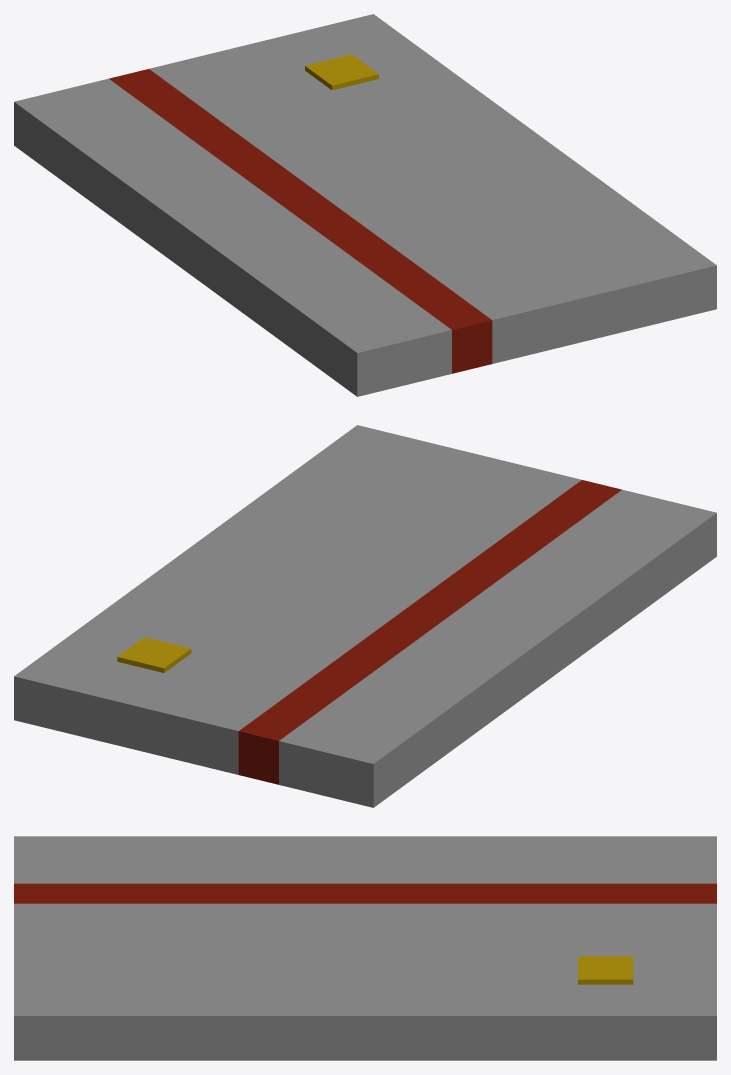
Rendered from Card.fbx.
The picture shows the model from 3 angles, top to bottom: view 1: azimuth 30°, elevation 25°; view 2: azimuth 150°, elevation 25°; view 3: azimuth 270°, elevation 25°; orthographic projection. The views are drawn at different scales.
Visible parts, largest first — view 1: Cube.016; view 2: Cube.016; view 3: Cube.016.
Part boxes in pixels (x1,y1,x2,y2): Cube.016: (14, 14, 716, 396); Cube.016: (14, 425, 716, 807); Cube.016: (14, 836, 716, 1060).
Bounding box in the file's own units: 8.41 × 1.1 × 13.9.
Materials: 1 (1 with a texture image).
